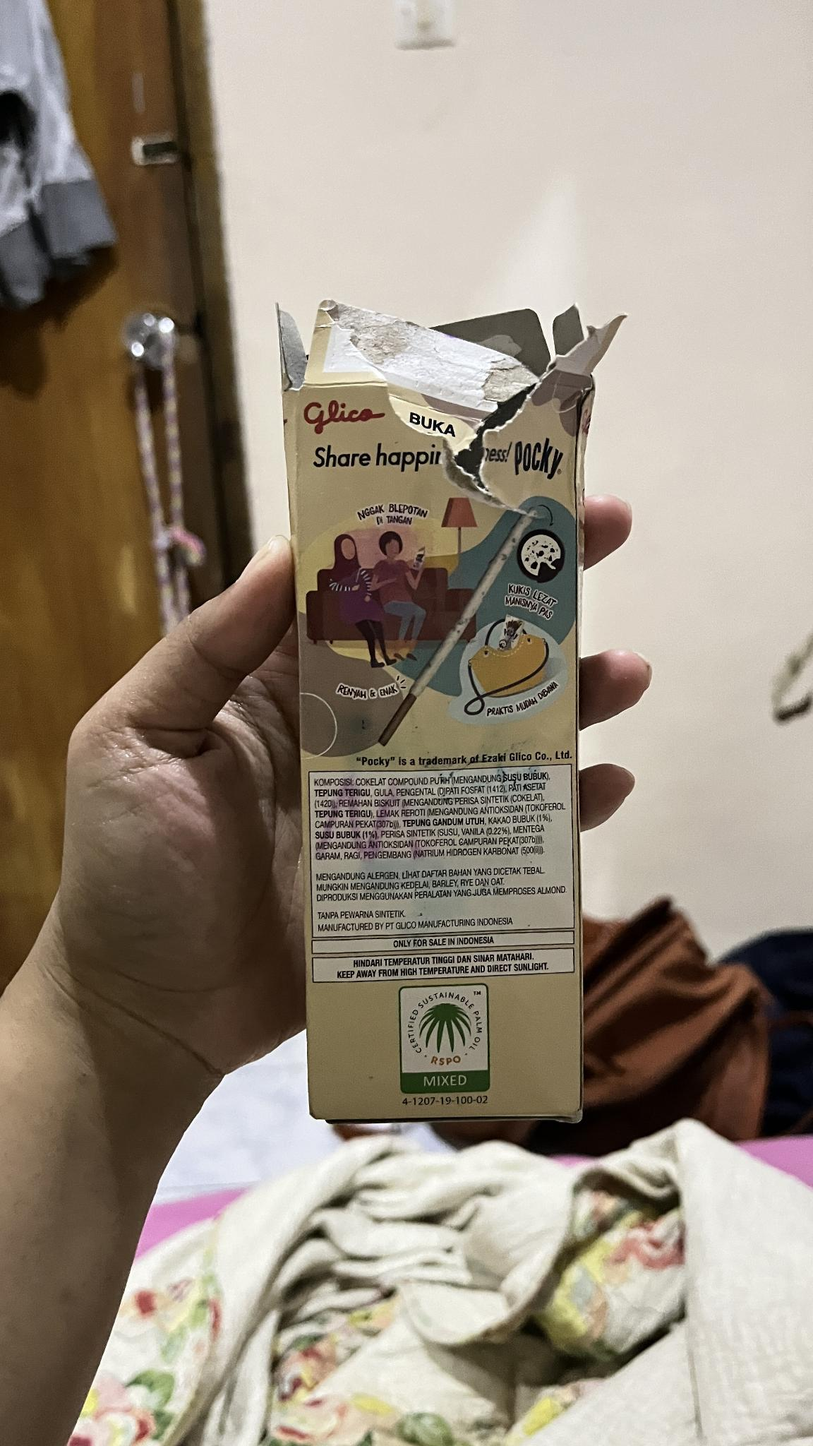Kertas: (290, 377, 591, 1123)
